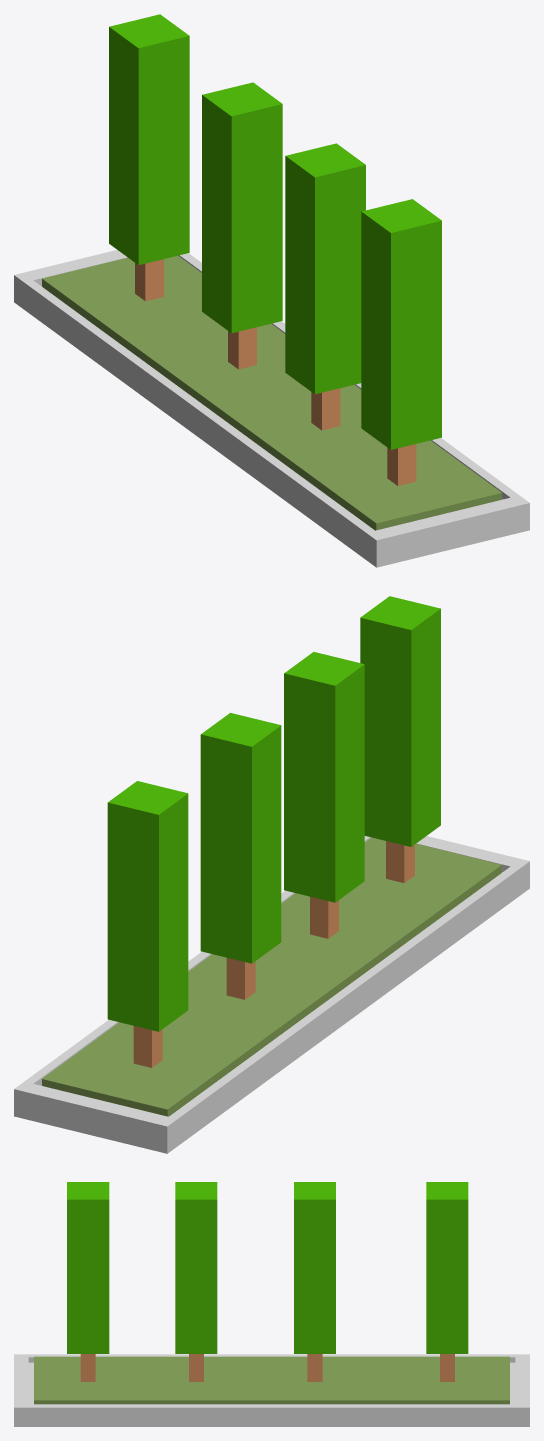
The model's file is Environment_Tree.fbx.
3 renders of one model, top to bottom at view 1: azimuth 30°, elevation 25°; view 2: azimuth 150°, elevation 25°; view 3: azimuth 270°, elevation 25°, orthographic. The views are drawn at different scales.
Parts seen in each view (by area): view 1: Tree; view 2: Tree; view 3: Tree.
Boxes of the visible parts, bbox=[...] form: Tree: bbox=[14, 14, 529, 567]; Tree: bbox=[14, 596, 529, 1153]; Tree: bbox=[14, 1182, 529, 1426].
Bounding box in the file's own units: 3 × 5.51 × 12.28.
